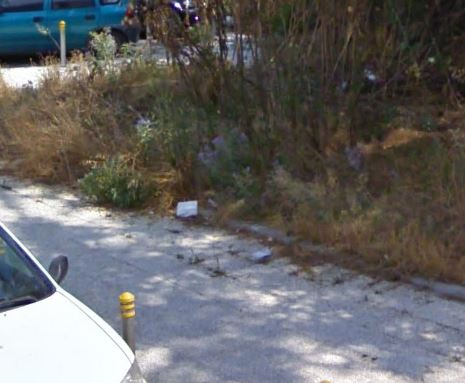trash: (172, 191, 205, 220), (242, 243, 276, 261)
